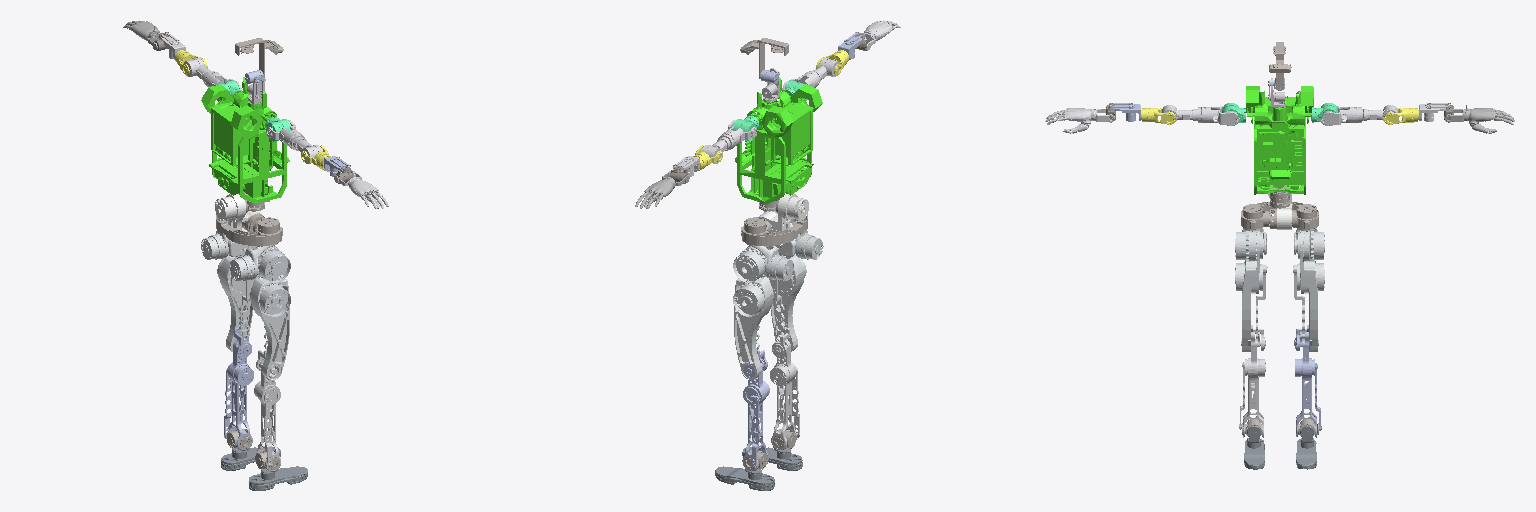
--- Render facts (derived) ---
3 views of the same robot in one strip: view 1: azimuth 30°, elevation 25°; view 2: azimuth 150°, elevation 25°; view 3: azimuth 270°, elevation 25° (orthographic).
Model ti5_t170a with 34 links and 33 joints (32 revolute, 1 fixed), rooted at base, posed all joints at 0.
Visible links, largest first — view 1: Link_x3, Link_r3, Link_l4, Link_r4, Link_l3, base_link, Link_r6, Link_r2, Link_x1, Link_r1, Link_sr7, Link_b3 (+2 smaller); view 2: Link_x3, Link_l3, Link_r4, Link_l4, Link_r3, base_link, Link_x1, Link_l6, Link_l2, Link_l1, Link_sl7, Link_r1 (+2 smaller); view 3: Link_x3, Link_l3, Link_r3, base_link, Link_r4, Link_l4, Link_sl7, Link_sr7, Link_r2, Link_r6, Link_l6, Link_l2 (+3 smaller).
Link boxes in pixels (x1,y1,x2,y2): Link_x3: (201,77,289,203); Link_r3: (250,246,290,379); Link_l4: (224,327,253,450); Link_r4: (254,350,280,471); Link_l3: (217,247,257,351); base_link: (216,214,282,246); Link_r6: (249,450,307,490); Link_r2: (257,246,290,282); Link_x1: (215,194,261,231); Link_r1: (230,244,276,280); Link_sr7: (334,171,388,208); Link_b3: (235,38,283,77); Link_x3: (735,77,822,203); Link_l3: (733,246,773,379); Link_r4: (770,327,799,450); Link_l4: (742,350,769,471); Link_r3: (766,247,806,351); base_link: (741,211,807,245); Link_x1: (758,193,808,232); Link_l6: (715,450,774,490); Link_l2: (733,246,766,282); Link_l1: (746,243,793,280); Link_sl7: (635,171,689,208); Link_r1: (790,221,823,259); Link_x3: (1246,86,1313,194); Link_l3: (1293,230,1324,351); Link_r3: (1235,230,1267,351); base_link: (1241,202,1318,229); Link_r4: (1240,325,1265,437); Link_l4: (1294,325,1320,437); Link_sl7: (1445,105,1514,133); Link_sr7: (1045,108,1114,133); Link_r2: (1235,231,1266,260); Link_r6: (1244,426,1264,469); Link_l6: (1296,426,1316,469); Link_l2: (1294,231,1324,260).
Size in the robot's own frame: 0.3145 by 1.84 by 1.74 metres.
Meshes: 33 distinct files referenced, 33 mesh visuals loaded (33 binary STL).

URDF robot description (ti5_t170a):
<?xml version="1.0" encoding="utf-8"?>
<!-- This URDF was automatically created by SolidWorks to URDF Exporter! Originally created by Stephen Brawner ([email redacted])
     Commit Version: 1.6.0-4-g7f85cfe  Build Version: 1.6.7995.38578
     For more information, please see http://wiki.ros.org/sw_urdf_exporter -->
<robot name="ti5_t170a">
  <link name="base">
    <visual>
      <origin rpy="0 0 0" xyz="0 0 0"/>
      <geometry>
        <box size="0.001 0.001 0.001"/>
      </geometry>
    </visual>
  </link>
  <joint name="floating_base" type="fixed">
    <origin rpy="0 0 0" xyz="0 0 0"/>
    <parent link="base"/>
    <child link="base_link"/>
  </joint>
  <link name="base_link">
    <inertial>
      <origin xyz="0.0844 -0.0016463 0.00010521" rpy="0 0 0" />
      <mass value="4.50959" />
      <inertia ixx="0.038929" ixy="0.0011748" ixz="0.0006452" iyy="0.064522" iyz="5.4E-05" izz="0.1016" />
    </inertial>
    <visual>
      <origin xyz="0 0 0" rpy="0 0 0" />
      <geometry>
        <mesh filename="../meshes/base_link.STL" />
      </geometry>
      <material name="">
        <color rgba="0.77647 0.75686 0.73725 1" />
      </material>
    </visual>
    <collision>
      <origin xyz="0 0 0" rpy="0 0 0" />
      <geometry>
        <mesh filename="../meshes/base_link.STL" />
      </geometry>
    </collision>
  </link>
  <link name="Link_r1">
    <inertial>
      <origin xyz="-0.059057 -5.1688E-07 -0.049467" rpy="0 0 0" />
      <mass value="1.5552" />
      <inertia ixx="0.011882" ixy="0" ixz="0.010973" iyy="0.022637" iyz="0" izz="0.011603" />
    </inertial>
    <visual>
      <origin xyz="0 0 0" rpy="0 0 0" />
      <geometry>
        <mesh filename="../meshes/Link-r1.STL" />
      </geometry>
      <material name="">
        <color rgba="0.89804 0.91765 0.92941 1" />
      </material>
    </visual>
    <collision>
      <origin xyz="0 0 0" rpy="0 0 0" />
      <geometry>
        <mesh filename="../meshes/Link-r1.STL" />
      </geometry>
    </collision>
  </link>
  <joint name="Leg_R_1" type="revolute">
    <origin xyz="0.124 -0.10506 -0.020163" rpy="0 0 0" />
    <parent link="base_link" />
    <child link="Link_r1" />
    <axis xyz="0 0 1" />
    <limit lower="-0.78" upper="0.78" effort="32" velocity="6.39" />
  </joint>
  <link name="Link_r2">
    <inertial>
      <origin xyz="0.053855 0.026264 -1.7786E-07" rpy="0 0 0" />
      <mass value="2.69417" />
      <inertia ixx="0.0028058" ixy="0.0018587" ixz="0" iyy="0.0150965" iyz="0" izz="0.0146184" />
    </inertial>
    <visual>
      <origin xyz="0 0 0" rpy="0 0 0" />
      <geometry>
        <mesh filename="../meshes/Link-r2.STL" />
      </geometry>
      <material name="">
        <color rgba="0.89804 0.91765 0.92941 1" />
      </material>
    </visual>
    <collision>
      <origin xyz="0 0 0" rpy="0 0 0" />
      <geometry>
        <mesh filename="../meshes/Link-r2.STL" />
      </geometry>
    </collision>
  </link>
  <joint name="Leg_R_2" type="revolute">
    <origin xyz="-0.068 0 -0.09" rpy="0 0 0" />
    <parent link="Link_r1" />
    <child link="Link_r2" />
    <axis xyz="-1 0 0" />
    <limit lower="-0.78" upper="0.78" effort="32" velocity="6.39" />
  </joint>
  <link name="Link_r3">
    <inertial>
      <origin xyz="0.0065629 -0.028148 -0.18975" rpy="0 0 0" />
      <mass value="4.19635" />
      <inertia ixx="0.1455762" ixy="-0.0004795" ixz="-0.0028817" iyy="0.1443844" iyz="0.0215836" izz="0.0086753" />
    </inertial>
    <visual>
      <origin xyz="0 0 0" rpy="0 0 0" />
      <geometry>
        <mesh filename="../meshes/Link-r3.STL" />
      </geometry>
      <material name="">
        <color rgba="0.89804 0.91765 0.92941 1" />
      </material>
    </visual>
    <collision>
      <origin xyz="0 0 0" rpy="0 0 0" />
      <geometry>
        <mesh filename="../meshes/Link-r3.STL" />
      </geometry>
    </collision>
  </link>
  <joint name="Leg_R_3" type="revolute">
    <origin xyz="0.068 0.0325 0" rpy="0 0 0" />
    <parent link="Link_r2" />
    <child link="Link_r3" />
    <axis xyz="0 -1 0" />
    <limit lower="-0.17" upper="0.95" effort="94" velocity="4.61" />
  </joint>
  <link name="Link_r4">
    <inertial>
      <origin xyz="-0.0025755 -0.052397 -0.15731" rpy="0 0 0" />
      <mass value="2.64865" />
      <inertia ixx="0.1025074" ixy="0.000492" ixz="0.0011684" iyy="0.0949543" iyz="0.0210099" izz="0.0091046" />
    </inertial>
    <visual>
      <origin xyz="0 0 0" rpy="0 0 0" />
      <geometry>
        <mesh filename="../meshes/Link-r4.STL" />
      </geometry>
      <material name="">
        <color rgba="0.8902 0.8902 0.91373 1" />
      </material>
    </visual>
    <collision>
      <origin xyz="0 0 0" rpy="0 0 0" />
      <geometry>
        <mesh filename="../meshes/Link-r4.STL" />
      </geometry>
    </collision>
  </link>
  <joint name="Leg_R_4" type="revolute">
    <origin xyz="-0.00030338 0.0165 -0.42" rpy="0 0 0" />
    <parent link="Link_r3" />
    <child link="Link_r4" />
    <axis xyz="0 -1 0" />
    <limit lower="-1.7" upper="0" effort="94" velocity="4.61" />
  </joint>
  <link name="Link_r5">
    <inertial>
      <origin xyz="0.0079513 0.039273 -3.2753E-09" rpy="0 0 0" />
      <mass value="0.7704" />
      <inertia ixx="0.0020633" ixy="0.0002033" ixz="0" iyy="0.0004252" iyz="0" izz="0.0022243" />
    </inertial>
    <visual>
      <origin xyz="0 0 0" rpy="0 0 0" />
      <geometry>
        <mesh filename="../meshes/Link-r5.STL" />
      </geometry>
      <material name="">
        <color rgba="0.77647 0.75686 0.73725 1" />
      </material>
    </visual>
    <collision>
      <origin xyz="0 0 0" rpy="0 0 0" />
      <geometry>
        <mesh filename="../meshes/Link-r5.STL" />
      </geometry>
    </collision>
  </link>
  <joint name="Leg_R_5" type="revolute">
    <origin xyz="0 -0.094 -0.37" rpy="0 0 0" />
    <parent link="Link_r4" />
    <child link="Link_r5" />
    <axis xyz="0 -1 0" />
    <limit lower="-0.78" upper="0.78" effort="19.8" velocity="7.12" />
  </joint>
  <link name="Link_r6">
    <inertial>
      <origin xyz="0.0033722 0.0018226 -0.068866" rpy="0 0 0" />
      <mass value="0.87612" />
      <inertia ixx="0.005131" ixy="2.29E-05" ixz="-0.0004185" iyy="0.0075545" iyz="-0.0001351" izz="0.0030862" />
    </inertial>
    <visual>
      <origin xyz="0 0 0" rpy="0 0 0" />
      <geometry>
        <mesh filename="../meshes/Link-r6.STL" />
      </geometry>
      <material name="">
        <color rgba="0.61569 0.64314 0.67451 1" />
      </material>
    </visual>
    <collision>
      <origin xyz="0 0 0" rpy="0 0 0" />
      <geometry>
        <mesh filename="../meshes/Link-r6.STL" />
      </geometry>
    </collision>
  </link>
  <joint name="Leg_R_6" type="revolute">
    <origin xyz="0.0261 0.048 0" rpy="0 0 0" />
    <parent link="Link_r5" />
    <child link="Link_r6" />
    <axis xyz="-1 0 0" />
    <limit lower="-0.78" upper="0.78" effort="6.6" velocity="7.85" />
  </joint>
  <link name="Link_l1">
    <inertial>
      <origin xyz="-0.059057 -5.1688E-07 -0.049467" rpy="0 0 0" />
      <mass value="1.5552" />
      <inertia ixx="0.011882" ixy="0" ixz="0.010973" iyy="0.022637" iyz="0" izz="0.011603" />
    </inertial>
    <visual>
      <origin xyz="0 0 0" rpy="0 0 0" />
      <geometry>
        <mesh filename="../meshes/Link-l1.STL" />
      </geometry>
      <material name="">
        <color rgba="0.89804 0.91765 0.92941 1" />
      </material>
    </visual>
    <collision>
      <origin xyz="0 0 0" rpy="0 0 0" />
      <geometry>
        <mesh filename="../meshes/Link-l1.STL" />
      </geometry>
    </collision>
  </link>
  <joint name="Leg_L_1" type="revolute">
    <origin xyz="0.124 0.10494 -0.020164" rpy="0 0 0" />
    <parent link="base_link" />
    <child link="Link_l1" />
    <axis xyz="0 0 1" />
    <limit lower="-0.78" upper="0.78" effort="32" velocity="6.39" />
  </joint>
  <link name="Link_l2">
    <inertial>
      <origin xyz="0.053855 -0.026264 1.7786E-07" rpy="0 0 0" />
      <mass value="2.69417" />
      <inertia ixx="0.0028058" ixy="-0.0018587" ixz="0" iyy="0.0150965" iyz="0" izz="0.0146184" />
    </inertial>
    <visual>
      <origin xyz="0 0 0" rpy="0 0 0" />
      <geometry>
        <mesh filename="../meshes/Link-l2.STL" />
      </geometry>
      <material name="">
        <color rgba="0.89804 0.91765 0.92941 1" />
      </material>
    </visual>
    <collision>
      <origin xyz="0 0 0" rpy="0 0 0" />
      <geometry>
        <mesh filename="../meshes/Link-l2.STL" />
      </geometry>
    </collision>
  </link>
  <joint name="Leg_L_2" type="revolute">
    <origin xyz="-0.068 0 -0.09" rpy="0 0 0" />
    <parent link="Link_l1" />
    <child link="Link_l2" />
    <axis xyz="-1 0 0" />
    <limit lower="-0.78" upper="0.78" effort="32" velocity="6.39" />
  </joint>
  <link name="Link_l3">
    <inertial>
      <origin xyz="0.0069525 0.033309 -0.19317" rpy="0 0 0" />
      <mass value="5.45477" />
      <inertia ixx="0.2192296" ixy="0.0009774" ixz="-0.0050256" iyy="0.217301" iyz="-0.0342587" izz="0.0134237" />
    </inertial>
    <visual>
      <origin xyz="0 0 0" rpy="0 0 0" />
      <geometry>
        <mesh filename="../meshes/Link-l3.STL" />
      </geometry>
      <material name="">
        <color rgba="0.89804 0.91765 0.92941 1" />
      </material>
    </visual>
    <collision>
      <origin xyz="0 0 0" rpy="0 0 0" />
      <geometry>
        <mesh filename="../meshes/Link-l3.STL" />
      </geometry>
    </collision>
  </link>
  <joint name="Leg_L_3" type="revolute">
    <origin xyz="0.068 -0.0325 0" rpy="0 0 0" />
    <parent link="Link_l2" />
    <child link="Link_l3" />
    <axis xyz="0 -1 0" />
    <limit lower="-0.17" upper="0.959" effort="94" velocity="4.61" />
  </joint>
  <link name="Link_l4">
    <inertial>
      <origin xyz="-0.004229 0.055259 -0.12268" rpy="0 0 0" />
      <mass value="1.964604" />
      <inertia ixx="0.0551197" ixy="-0.0005167" ixz="0.0013893" iyy="0.049026" iyz="-0.0139356" izz="0.0071921" />
    </inertial>
    <visual>
      <origin xyz="0 0 0" rpy="0 0 0" />
      <geometry>
        <mesh filename="../meshes/Link-l4.STL" />
      </geometry>
      <material name="">
        <color rgba="0.79216 0.81961 0.93333 1" />
      </material>
    </visual>
    <collision>
      <origin xyz="0 0 0" rpy="0 0 0" />
      <geometry>
        <mesh filename="../meshes/Link-l4.STL" />
      </geometry>
    </collision>
  </link>
  <joint name="Leg_L_4" type="revolute">
    <origin xyz="0 -0.0165 -0.42" rpy="0 0 0" />
    <parent link="Link_l3" />
    <child link="Link_l4" />
    <axis xyz="0 -1 0" />
    <limit lower="-1.7" upper="0" effort="94" velocity="4.61" />
  </joint>
  <link name="Link_l5">
    <inertial>
      <origin xyz="-0.00071448 -0.035721 -0.00037836" rpy="0 0 0" />
      <mass value="0.67991" />
      <inertia ixx="0.0016285" ixy="-3.69E-05" ixz="2.9E-06" iyy="0.0002571" iyz="-3E-07" izz="0.0016762" />
    </inertial>
    <visual>
      <origin xyz="0 0 0" rpy="0 0 0" />
      <geometry>
        <mesh filename="../meshes/Link-l5.STL" />
      </geometry>
      <material name="">
        <color rgba="0.77647 0.75686 0.73725 1" />
      </material>
    </visual>
    <collision>
      <origin xyz="0 0 0" rpy="0 0 0" />
      <geometry>
        <mesh filename="../meshes/Link-l5.STL" />
      </geometry>
    </collision>
  </link>
  <joint name="Leg_L_5" type="revolute">
    <origin xyz="-0.00030338 0.095 -0.37" rpy="0 0 0" />
    <parent link="Link_l4" />
    <child link="Link_l5" />
    <axis xyz="0 1 0" />
    <limit lower="-0.78" upper="0.78" effort="19.8" velocity="7.12" />
  </joint>
  <link name="Link_l6">
    <inertial>
      <origin xyz="0.0012727 -0.0019876 -0.070172" rpy="0 0 0" />
      <mass value="1.1041" />
      <inertia ixx="0.00654" ixy="-4.84E-05" ixz="-0.0002952" iyy="0.0096809" iyz="0.00018" izz="0.0040415" />
    </inertial>
    <visual>
      <origin xyz="0 0 0" rpy="0 0 0" />
      <geometry>
        <mesh filename="../meshes/Link-l6.STL" />
      </geometry>
      <material name="">
        <color rgba="0.61569 0.64314 0.67451 1" />
      </material>
    </visual>
    <collision>
      <origin xyz="0 0 0" rpy="0 0 0" />
      <geometry>
        <mesh filename="../meshes/Link-l6.STL" />
      </geometry>
    </collision>
  </link>
  <joint name="Leg_L_6" type="revolute">
    <origin xyz="0.0261 -0.045 0" rpy="0 0 0" />
    <parent link="Link_l5" />
    <child link="Link_l6" />
    <axis xyz="-1 0 0" />
    <limit lower="-0.78" upper="0.78" effort="6.6" velocity="7.85" />
  </joint>
  <link name="Link_x1">
    <inertial>
      <origin xyz="0 0 0" rpy="0 0 0" />
      <mass value="1.853222" />
      <inertia ixx="0.015542" ixy="0.0077251" ixz="-0.0119762" iyy="0.0265434" iyz="-0.0061347" izz="0.0201888" />
    </inertial>
    <visual>
      <origin xyz="0 0 0" rpy="0 0 0" />
      <geometry>
        <mesh filename="../meshes/Link-x1.STL" />
      </geometry>
      <material name="">
        <color rgba="1 1 1 1" />
      </material>
    </visual>
    <collision>
      <origin xyz="0 0 0" rpy="0 0 0" />
      <geometry>
        <mesh filename="../meshes/Link-x1.STL" />
      </geometry>
    </collision>
  </link>
  <joint name="Waist_Pitch" type="revolute">
    <origin xyz="0.124 0.050439 0.0058365" rpy="0 0 0" />
    <parent link="base_link" />
    <child link="Link_x1" />
    <axis xyz="0 1 0" />
    <limit lower="-0.08" upper="2.01" effort="50" velocity="3.14" />
  </joint>
  <link name="Link_x2">
    <inertial>
      <origin xyz="0.022098 -0.00082895 0.010821" rpy="0 0 0" />
      <mass value="1.1165227" />
      <inertia ixx="0.0014227" ixy="-5.7E-06" ixz="0.0012197" iyy="0.0042582" iyz="2.9E-06" izz="0.0038055" />
    </inertial>
    <visual>
      <origin xyz="0 0 0" rpy="0 0 0" />
      <geometry>
        <mesh filename="../meshes/Link-x2.STL" />
      </geometry>
      <material name="">
        <color rgba="0.77647 0.75686 0.73725 1" />
      </material>
    </visual>
    <collision>
      <origin xyz="0 0 0" rpy="0 0 0" />
      <geometry>
        <mesh filename="../meshes/Link-x2.STL" />
      </geometry>
    </collision>
  </link>
  <joint name="Waist_Roll" type="revolute">
    <origin xyz="-0.0526 -0.0505 0.085" rpy="0 0 0" />
    <parent link="Link_x1" />
    <child link="Link_x2" />
    <axis xyz="-1 0 0" />
    <limit lower="-0.52" upper="0.52" effort="50" velocity="3.14" />
  </joint>
  <link name="Link_x3">
    <inertial>
      <origin xyz="-0.040271 -0.00016965 0.1667" rpy="0 0 0" />
      <mass value="8.387698" />
      <inertia ixx="0.4483836" ixy="-0.0005311" ixz="-0.0422603" iyy="0.4476692" iyz="-0.0003035" izz="0.0717941" />
    </inertial>
    <visual>
      <origin xyz="0 0 0" rpy="0 0 0" />
      <geometry>
        <mesh filename="../meshes/Link-x3.STL" />
      </geometry>
      <material name="">
        <color rgba="0.41961 1 0.27843 1" />
      </material>
    </visual>
    <collision>
      <origin xyz="0 0 0" rpy="0 0 0" />
      <geometry>
        <mesh filename="../meshes/Link-x3.STL" />
      </geometry>
    </collision>
  </link>
  <joint name="Waist_Yaw" type="revolute">
    <origin xyz="0.0528 0 0.0495" rpy="0 0 0" />
    <parent link="Link_x2" />
    <child link="Link_x3" />
    <axis xyz="0 0 -1" />
    <limit lower="-1.44" upper="1.44" effort="50" velocity="3.14" />
  </joint>
  <link name="Link_b1">
    <inertial>
      <origin xyz="-2.0539E-14 -0.02349 0.037981" rpy="0 0 0" />
      <mass value="0.3120716" />
      <inertia ixx="0.0007872" ixy="0" ixz="1E-06" iyy="0.0006437" iyz="-0.0002444" izz="0.0002343" />
    </inertial>
    <visual>
      <origin xyz="0 0 0" rpy="0 0 0" />
      <geometry>
        <mesh filename="../meshes/Link-b1.STL" />
      </geometry>
      <material name="">
        <color rgba="0.86667 0.86667 0.8902 1" />
      </material>
    </visual>
    <collision>
      <origin xyz="0 0 0" rpy="0 0 0" />
      <geometry>
        <mesh filename="../meshes/Link-b1.STL" />
      </geometry>
    </collision>
  </link>
  <joint name="Head_Yaw" type="revolute">
    <origin xyz="0.0025 0 0.356" rpy="0 0 0" />
    <parent link="Link_x3" />
    <child link="Link_b1" />
    <axis xyz="0 0 1" />
    <limit lower="-2.6" upper="2.6" effort="6.5" velocity="4.19" />
  </joint>
  <link name="Link_b2">
    <inertial>
      <origin xyz="0.0036955 0.016527 -7.3508E-13" rpy="0 0 0" />
      <mass value="0.270827" />
      <inertia ixx="0.0003294" ixy="2.2E-06" ixz="-4E-07" iyy="7.9E-05" iyz="1.1E-06" izz="0.0003604" />
    </inertial>
    <visual>
      <origin xyz="0 0 0" rpy="0 0 0" />
      <geometry>
        <mesh filename="../meshes/Link-b2.STL" />
      </geometry>
      <material name="">
        <color rgba="0.79216 0.81961 0.93333 1" />
      </material>
    </visual>
    <collision>
      <origin xyz="0 0 0" rpy="0 0 0" />
      <geometry>
        <mesh filename="../meshes/Link-b2.STL" />
      </geometry>
    </collision>
  </link>
  <joint name="Head_Pitch" type="revolute">
    <origin xyz="0 -0.039 0.094" rpy="0 0 0" />
    <parent link="Link_b1" />
    <child link="Link_b2" />
    <axis xyz="0 -1 0" />
    <limit lower="-1.39" upper="0.34" effort="2.8" velocity="4.71" />
  </joint>
  <link name="Link_b3">
    <inertial>
      <origin xyz="0.0024245 -5.1187E-06 0.10151" rpy="0 0 0" />
      <mass value="0.405698" />
      <inertia ixx="0.004732" ixy="1.3E-06" ixz="0.000721" iyy="0.0056804" iyz="-3.1E-06" izz="0.0012506" />
    </inertial>
    <visual>
      <origin xyz="0 0 0" rpy="0 0 0" />
      <geometry>
        <mesh filename="../meshes/Link-b3.STL" />
      </geometry>
      <material name="">
        <color rgba="0.77647 0.75686 0.73725 1" />
      </material>
    </visual>
    <collision>
      <origin xyz="0 0 0" rpy="0 0 0" />
      <geometry>
        <mesh filename="../meshes/Link-b3.STL" />
      </geometry>
    </collision>
  </link>
  <joint name="Head_Roll" type="revolute">
    <origin xyz="0.026 0.039 0" rpy="0 0 0" />
    <parent link="Link_b2" />
    <child link="Link_b3" />
    <axis xyz="1 0 0" />
    <limit lower="-0.78" upper="0.78" effort="2.8" velocity="4.71" />
  </joint>
  <link name="Link_sr1">
    <inertial>
      <origin xyz="-0.0017021 -0.043979 -0.00048578" rpy="0 0 0" />
      <mass value="0.78752" />
      <inertia ixx="0.0037568" ixy="-3.15E-05" ixz="-2E-07" iyy="0.0005341" iyz="0.0001125" izz="0.0033679" />
    </inertial>
    <visual>
      <origin xyz="0 0 0" rpy="0 0 0" />
      <geometry>
        <mesh filename="../meshes/Link-sr1.STL" />
      </geometry>
      <material name="">
        <color rgba="0.49804 1 0.75294 1" />
      </material>
    </visual>
    <collision>
      <origin xyz="0 0 0" rpy="0 0 0" />
      <geometry>
        <mesh filename="../meshes/Link-sr1.STL" />
      </geometry>
    </collision>
  </link>
  <joint name="Arm_R_1" type="revolute">
    <origin xyz="0.0025 -0.128 0.314" rpy="0 0 0" />
    <parent link="Link_x3" />
    <child link="Link_sr1" />
    <axis xyz="0 1 0" />
    <limit lower="-3.14" upper="3.14" effort="30" velocity="3.56" />
  </joint>
  <link name="Link_sr2">
    <inertial>
      <origin xyz="-0.027589 -0.049076 -8.1596E-08" rpy="0 0 0" />
      <mass value="0.63502" />
      <inertia ixx="0.0080264" ixy="0.0020107" ixz="0" iyy="0.0010345" iyz="0" izz="0.008739" />
    </inertial>
    <visual>
      <origin xyz="0 0 0" rpy="0 0 0" />
      <geometry>
        <mesh filename="../meshes/Link-sr2.STL" />
      </geometry>
      <material name="">
        <color rgba="0.8902 0.8902 0.91373 1" />
      </material>
    </visual>
    <collision>
      <origin xyz="0 0 0" rpy="0 0 0" />
      <geometry>
        <mesh filename="../meshes/Link-sr2.STL" />
      </geometry>
    </collision>
  </link>
  <joint name="Arm_R_2" type="revolute">
    <origin xyz="0.0315 -0.063 0" rpy="0 0 0" />
    <parent link="Link_sr1" />
    <child link="Link_sr2" />
    <axis xyz="-1 0 0" />
    <limit lower="-1.57" upper="0.52" effort="30" velocity="3.56" />
  </joint>
  <link name="Link_sr3">
    <inertial>
      <origin xyz="0.0031288 -0.040488 -8.0381E-08" rpy="0 0 0" />
      <mass value="0.52969" />
      <inertia ixx="0.0044154" ixy="-0.0006818" ixz="0" iyy="0.0004879" iyz="0" izz="0.0046694" />
    </inertial>
    <visual>
      <origin xyz="0 0 0" rpy="0 0 0" />
      <geometry>
        <mesh filename="../meshes/Link-sr3.STL" />
      </geometry>
      <material name="">
        <color rgba="0.8902 0.8902 0.91373 1" />
      </material>
    </visual>
    <collision>
      <origin xyz="0 0 0" rpy="0 0 0" />
      <geometry>
        <mesh filename="../meshes/Link-sr3.STL" />
      </geometry>
    </collision>
  </link>
  <joint name="Arm_R_3" type="revolute">
    <origin xyz="-0.0315 -0.1425 0" rpy="0 0 0" />
    <parent link="Link_sr2" />
    <child link="Link_sr3" />
    <axis xyz="0 1 0" />
    <limit lower="-3.14" upper="3.14" effort="9.6" velocity="3.87" />
  </joint>
  <link name="Link_sr4">
    <inertial>
      <origin xyz="-0.024491 -0.040901 -8.1062E-07" rpy="0 0 0" />
      <mass value="0.42898" />
      <inertia ixx="0.0027852" ixy="0.0009316" ixz="0" iyy="0.0005126" iyz="0" izz="0.0031977" />
    </inertial>
    <visual>
      <origin xyz="0 0 0" rpy="0 0 0" />
      <geometry>
        <mesh filename="../meshes/Link-sr4.STL" />
      </geometry>
      <material name="">
        <color rgba="1 1 0.50196 1" />
      </material>
    </visual>
    <collision>
      <origin xyz="0 0 0" rpy="0 0 0" />
      <geometry>
        <mesh filename="../meshes/Link-sr4.STL" />
      </geometry>
    </collision>
  </link>
  <joint name="Arm_R_4" type="revolute">
    <origin xyz="0.0296 -0.0975 0" rpy="0 0 0" />
    <parent link="Link_sr3" />
    <child link="Link_sr4" />
    <axis xyz="-1 0 0" />
    <limit lower="-2" upper="0" effort="9.6" velocity="3.87" />
  </joint>
  <link name="Link_sr5">
    <inertial>
      <origin xyz="8.31E-06 -0.047811 0.025033" rpy="0 0 0" />
      <mass value="0.344596" />
      <inertia ixx="0.0011507" ixy="0" ixz="0" iyy="0.0002799" iyz="-0.0003432" izz="0.000972" />
    </inertial>
    <visual>
      <origin xyz="0 0 0" rpy="0 0 0" />
      <geometry>
        <mesh filename="../meshes/Link-sr5.STL" />
      </geometry>
      <material name="">
        <color rgba="0.79216 0.81961 0.93333 1" />
      </material>
    </visual>
    <collision>
      <origin xyz="0 0 0" rpy="0 0 0" />
      <geometry>
        <mesh filename="../meshes/Link-sr5.STL" />
      </geometry>
    </collision>
  </link>
  <joint name="Arm_R_5" type="revolute">
    <origin xyz="-0.0296 -0.1135 0" rpy="0 0 0" />
    <parent link="Link_sr4" />
    <child link="Link_sr5" />
    <axis xyz="0 -1 0" />
    <limit lower="-3.14" upper="3.14" effort="6.5" velocity="4.19" />
  </joint>
  <link name="Link_sr6">
    <inertial>
      <origin xyz="0.0022027 -0.00017848 -0.017726" rpy="0 0 0" />
      <mass value="0.285133" />
      <inertia ixx="0.0003384" ixy="2E-07" ixz="4.3E-06" iyy="0.0003762" iyz="-4E-07" izz="8.91E-05" />
    </inertial>
    <visual>
      <origin xyz="0 0 0" rpy="0 0 0" />
      <geometry>
        <mesh filename="../meshes/Link-sr6.STL" />
      </geometry>
      <material name="">
        <color rgba="0.64706 0.61961 0.58824 1" />
      </material>
    </visual>
    <collision>
      <origin xyz="0 0 0" rpy="0 0 0" />
      <geometry>
        <mesh filename="../meshes/Link-sr6.STL" />
      </geometry>
    </collision>
  </link>
  <joint name="Arm_R_6" type="revolute">
    <origin xyz="0 -0.1155 0.039" rpy="0 0 0" />
    <parent link="Link_sr5" />
    <child link="Link_sr6" />
    <axis xyz="0 0 1" />
    <limit lower="-1.39" upper="1.39" effort="2.8" velocity="4.71" />
  </joint>
  <link name="Link_sr7">
    <inertial>
      <origin xyz="-0.01912 -0.08692 -0.0014962" rpy="0 0 0" />
      <mass value="0.097608" />
      <inertia ixx="0.0013912" ixy="0.0001845" ixz="2.7E-06" iyy="0.0001128" iyz="4.04E-05" izz="0.0014823" />
    </inertial>
    <visual>
      <origin xyz="0 0 0" rpy="0 0 0" />
      <geometry>
        <mesh filename="../meshes/Link-sr7.STL" />
      </geometry>
      <material name="">
        <color rgba="0.8902 0.8902 0.91373 1" />
      </material>
    </visual>
    <collision>
      <origin xyz="0 0 0" rpy="0 0 0" />
      <geometry>
        <mesh filename="../meshes/Link-sr7.STL" />
      </geometry>
    </collision>
  </link>
  <joint name="Arm_R_7" type="revolute">
    <origin xyz="0.026 0 -0.0385" rpy="0 0 0" />
    <parent link="Link_sr6" />
    <child link="Link_sr7" />
    <axis xyz="-1 0 0" />
    <limit lower="-1.83" upper="0.34" effort="2.8" velocity="4.71" />
  </joint>
  <link name="Link_sl1">
    <inertial>
      <origin xyz="0.0055733 0.028256 8.6926E-06" rpy="0 0 0" />
      <mass value="0.801182" />
      <inertia ixx="0.00345" ixy="0.0001027" ixz="-5E-07" iyy="0.0005012" iyz="-2.23E-05" izz="0.0030364" />
    </inertial>
    <visual>
      <origin xyz="0 0 0" rpy="0 0 0" />
      <geometry>
        <mesh filename="../meshes/Link-sl1.STL" />
      </geometry>
      <material name="">
        <color rgba="0.49804 1 0.75294 1" />
      </material>
    </visual>
    <collision>
      <origin xyz="0 0 0" rpy="0 0 0" />
      <geometry>
        <mesh filename="../meshes/Link-sl1.STL" />
      </geometry>
    </collision>
  </link>
  <joint name="Arm_L_1" type="revolute">
    <origin xyz="0.0025 0.128 0.314" rpy="0 0 0" />
    <parent link="Link_x3" />
    <child link="Link_sl1" />
    <axis xyz="0 -1 0" />
    <limit lower="-3.14" upper="3.14" effort="30" velocity="3.56" />
  </joint>
  <link name="Link_sl2">
    <inertial>
      <origin xyz="-0.027582 0.049076 8.1359E-08" rpy="0 0 0" />
      <mass value="0.635017" />
      <inertia ixx="0.0080264" ixy="-0.0020107" ixz="0" iyy="0.0010343" iyz="0" izz="0.0087388" />
    </inertial>
    <visual>
      <origin xyz="0 0 0" rpy="0 0 0" />
      <geometry>
        <mesh filename="../meshes/Link-sl2.STL" />
      </geometry>
      <material name="">
        <color rgba="0.8902 0.8902 0.91373 1" />
      </material>
    </visual>
    <collision>
      <origin xyz="0 0 0" rpy="0 0 0" />
      <geometry>
        <mesh filename="../meshes/Link-sl2.STL" />
      </geometry>
    </collision>
  </link>
  <joint name="Arm_L_2" type="revolute">
    <origin xyz="0.0315 0.063 0" rpy="0 0 0" />
    <parent link="Link_sl1" />
    <child link="Link_sl2" />
    <axis xyz="1 0 0" />
    <limit lower="-1.57" upper="0.52" effort="30" velocity="3.56" />
  </joint>
  <link name="Link_sl3">
    <inertial>
      <origin xyz="0.0031288 0.040488 8.0472E-08" rpy="0 0 0" />
      <mass value="0.529685" />
      <inertia ixx="0.0044154" ixy="0.0006818" ixz="0" iyy="0.0004879" iyz="0" izz="0.0046694" />
    </inertial>
    <visual>
      <origin xyz="0 0 0" rpy="0 0 0" />
      <geometry>
        <mesh filename="../meshes/Link-sl3.STL" />
      </geometry>
      <material name="">
        <color rgba="0.8902 0.8902 0.91373 1" />
      </material>
    </visual>
    <collision>
      <origin xyz="0 0 0" rpy="0 0 0" />
      <geometry>
        <mesh filename="../meshes/Link-sl3.STL" />
      </geometry>
    </collision>
  </link>
  <joint name="Arm_L_3" type="revolute">
    <origin xyz="-0.0315 0.1425 0" rpy="0 0 0" />
    <parent link="Link_sl2" />
    <child link="Link_sl3" />
    <axis xyz="0 -1 0" />
    <limit lower="-3.14" upper="3.14" effort="9.6" velocity="3.87" />
  </joint>
  <link name="Link_sl4">
    <inertial>
      <origin xyz="-0.024491 0.040901 8.0961E-07" rpy="0 0 0" />
      <mass value="0.428975" />
      <inertia ixx="0.0027852" ixy="-0.0009316" ixz="0" iyy="0.0005126" iyz="0" izz="0.0031977" />
    </inertial>
    <visual>
      <origin xyz="0 0 0" rpy="0 0 0" />
      <geometry>
        <mesh filename="../meshes/Link-sl4.STL" />
      </geometry>
      <material name="">
        <color rgba="1 1 0.50196 1" />
      </material>
    </visual>
    <collision>
      <origin xyz="0 0 0" rpy="0 0 0" />
      <geometry>
        <mesh filename="../meshes/Link-sl4.STL" />
      </geometry>
    </collision>
  </link>
  <joint name="Arm_L_4" type="revolute">
    <origin xyz="0.0296 0.0975 0" rpy="0 0 0" />
    <parent link="Link_sl3" />
    <child link="Link_sl4" />
    <axis xyz="1 0 0" />
    <limit lower="-2" upper="0" effort="9.6" velocity="3.87" />
  </joint>
  <link name="Link_sl5">
    <inertial>
      <origin xyz="8.3539E-06 0.047515 0.024931" rpy="0 0 0" />
      <mass value="0.34306" />
      <inertia ixx="0.0011459" ixy="-5E-07" ixz="0" iyy="0.0002768" iyz="0.0003417" izz="0.0009699" />
    </inertial>
    <visual>
      <origin xyz="0 0 0" rpy="0 0 0" />
      <geometry>
        <mesh filename="../meshes/Link-sl5.STL" />
      </geometry>
      <material name="">
        <color rgba="0.8902 0.8902 0.91373 1" />
      </material>
    </visual>
    <collision>
      <origin xyz="0 0 0" rpy="0 0 0" />
      <geometry>
        <mesh filename="../meshes/Link-sl5.STL" />
      </geometry>
    </collision>
  </link>
  <joint name="Arm_L_5" type="revolute">
    <origin xyz="-0.0296 0.1135 0" rpy="0 0 0" />
    <parent link="Link_sl4" />
    <child link="Link_sl5" />
    <axis xyz="0 1 0" />
    <limit lower="-1.39" upper="1.39" effort="6.5" velocity="4.19" />
  </joint>
  <link name="Link_sl6">
    <inertial>
      <origin xyz="0.0048902 -7.4996E-13 -0.018085" rpy="0 0 0" />
      <mass value="0.258932" />
      <inertia ixx="0.000321" ixy="-5E-07" ixz="-4.4E-06" iyy="0.0003535" iyz="-1.6E-06" izz="7.81E-05" />
    </inertial>
    <visual>
      <origin xyz="0 0 0" rpy="0 0 0" />
      <geometry>
        <mesh filename="../meshes/Link-sl6.STL" />
      </geometry>
      <material name="">
        <color rgba="0.64706 0.61961 0.58824 1" />
      </material>
    </visual>
    <collision>
      <origin xyz="0 0 0" rpy="0 0 0" />
      <geometry>
        <mesh filename="../meshes/Link-sl6.STL" />
      </geometry>
    </collision>
  </link>
  <joint name="Arm_L_6" type="revolute">
    <origin xyz="0 0.1155 0.039066" rpy="0 0 0" />
    <parent link="Link_sl5" />
    <child link="Link_sl6" />
    <axis xyz="0 0 1" />
    <limit lower="-1.39" upper="1.39" effort="2.8" velocity="4.71" />
  </joint>
  <link name="Link_sl7">
    <inertial>
      <origin xyz="-0.017596 0.098899 -0.0066609" rpy="0 0 0" />
      <mass value="0.13125" />
      <inertia ixx="0.0020734" ixy="-0.000241" ixz="7E-07" iyy="7.9781E-05" iyz="-0.0001434" izz="0.0021595" />
    </inertial>
    <visual>
      <origin xyz="0 0 0" rpy="0 0 0" />
      <geometry>
        <mesh filename="../meshes/Link-sl7.STL" />
      </geometry>
      <material name="">
        <color rgba="0.75294 0.75294 0.75294 1" />
      </material>
    </visual>
    <collision>
      <origin xyz="0 0 0" rpy="0 0 0" />
      <geometry>
        <mesh filename="../meshes/Link-sl7.STL" />
      </geometry>
    </collision>
  </link>
  <joint name="Arm_L_7" type="revolute">
    <origin xyz="0.026 0 -0.0385" rpy="0 0 0" />
    <parent link="Link_sl6" />
    <child link="Link_sl7" />
    <axis xyz="1 0 0" />
    <limit lower="-1.83" upper="0.34" effort="2.8" velocity="4.71" />
  </joint>
</robot>
